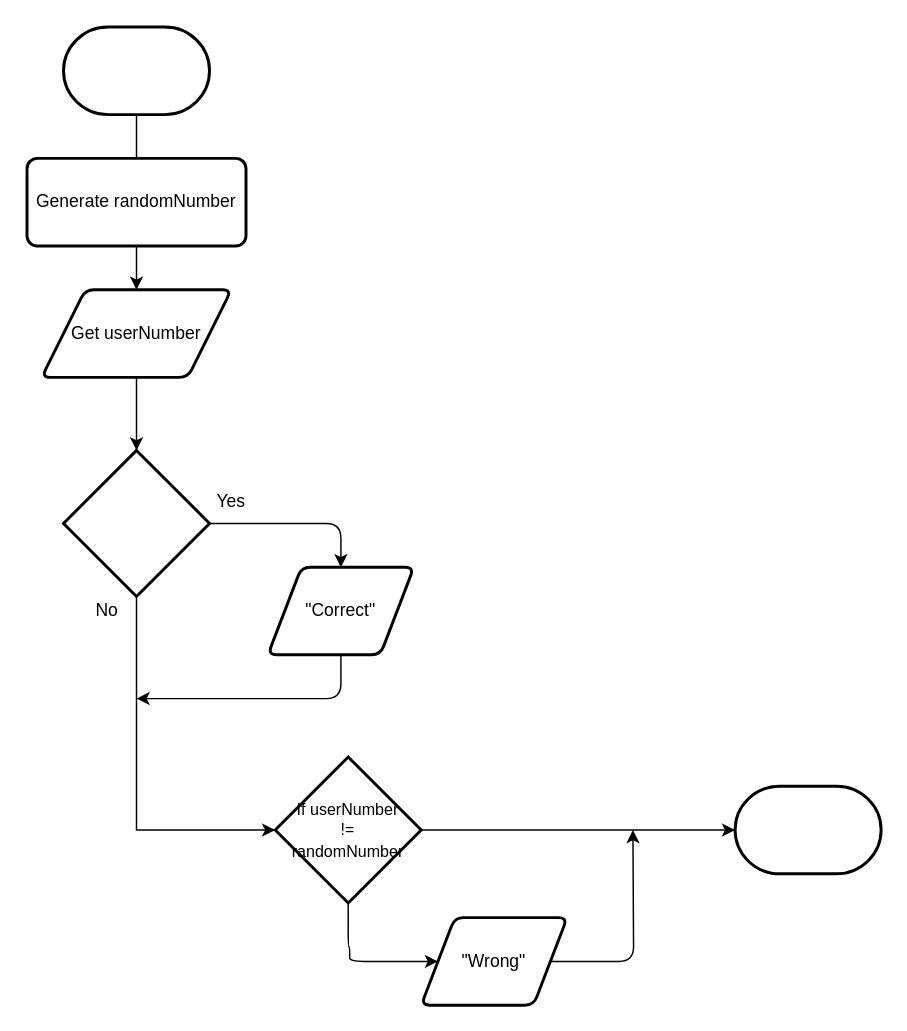
Some shapes in this 907 by 1031 pixel diagram are drawn without their labels. Each missing label, with the centre of its shape:
"If userNumber == randomNumber" goes at pixel 135 522.
"Start" goes at pixel 135 70.
"Stop" goes at pixel 807 829.
